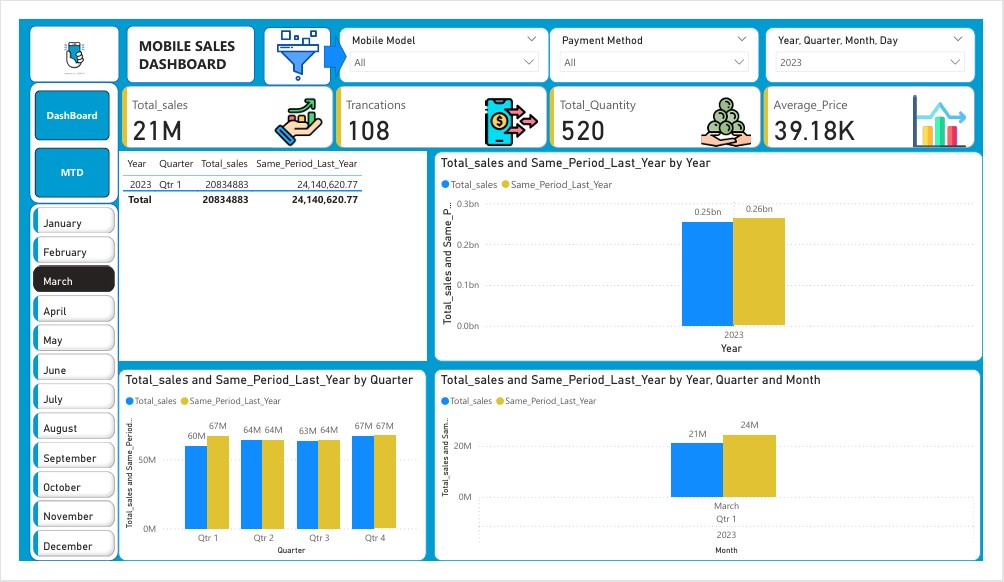

The dashboard page shown, as its layout file describes it:
{"tool":"powerbi","page":{"name":"Same Period Last Year","canvas":[1280,720],"ordinal":2},"visuals":[{"type":"shape","box":[14.2,8.5,119.1,75.1],"z":0},{"type":"image","box":[43.9,19.8,59.5,59.5],"z":1000},{"type":"shape","box":[14.2,83.6,117.6,161.6],"z":2000},{"type":"cardVisual","fields":{"Data":["Sales Data.Total_sales","Sales Data.Trancations","Sales Data.Total_Quantity","Sales Data.Average_Price"]},"box":[131.8,83.6,1145.2,92.1],"z":3000},{"type":"slicer","fields":{"Values":["Sales Data.Mobile Model"]},"box":[424.9,11.3,278.8,74.1],"z":4000},{"type":"slicer","fields":{"Values":["Sales Data.Payment Method"]},"box":[703.9,11.2,279,74],"z":5000},{"type":"slicer","fields":{"Values":["Custom_Calendar.Date.Variation.Date Hierarchy.Year","Custom_Calendar.Date.Variation.Date Hierarchy.Quarter","Custom_Calendar.Date.Variation.Date Hierarchy.Month","Custom_Calendar.Date.Variation.Date Hierarchy.Day"]},"box":[990.9,11.2,279,74],"z":6000},{"type":"shape","box":[324.6,11.3,89.3,76.5],"z":7000},{"type":"image","box":[279.2,8.5,181.4,79.4],"z":8000},{"type":"shape","box":[405.4,21.3,29.8,58.1],"z":9000},{"type":"shape","box":[143.1,8.5,170.1,76.5],"z":10000},{"type":"textbox","box":[154.5,17,147.4,59.5],"z":11000},{"type":"shape","box":[14.2,245.2,117.6,474.8],"z":12000},{"type":"advancedSlicerVisual","fields":{"Values":["Custom_Calendar.Date.Variation.Date Hierarchy.Month"]},"box":[14.2,245.2,117.6,474.8],"z":13000},{"type":"tableEx","fields":{"Values":["Custom_Calendar.Date.Variation.Date Hierarchy.Year","Custom_Calendar.Date.Variation.Date Hierarchy.Quarter","Sales Data.Total_sales","Sales Data.Same_Period_Last_Year"]},"box":[133.2,175.7,408.2,279.2],"z":14000},{"type":"clusteredColumnChart","fields":{"Category":["Custom_Calendar.Date.Variation.Date Hierarchy.Year","Custom_Calendar.Date.Variation.Date Hierarchy.Quarter"],"Y":["Sales Data.Total_sales","Sales Data.Same_Period_Last_Year"]},"box":[551.3,175.7,728.5,279.2],"z":14001},{"type":"clusteredColumnChart","fields":{"Category":["Custom_Calendar.Date.Variation.Date Hierarchy.Year","Custom_Calendar.Date.Variation.Date Hierarchy.Quarter","Custom_Calendar.Date.Variation.Date Hierarchy.Month"],"Y":["Sales Data.Total_sales","Sales Data.Same_Period_Last_Year"]},"box":[551.3,464.9,725.7,255.1],"z":14002},{"type":"clusteredColumnChart","fields":{"Category":["Custom_Calendar.Date.Variation.Date Hierarchy.Year","Custom_Calendar.Date.Variation.Date Hierarchy.Quarter"],"Y":["Sales Data.Total_sales","Sales Data.Same_Period_Last_Year"]},"box":[131.8,464.9,409.6,255.1],"z":14003},{"type":"pageNavigator","box":[21.3,95,99.2,141.7],"z":14004}]}

Visuals, with their boxes in screenshot pixels (x1, y1, x2, y2), scaled from the page's 1280x720 canvas onto the 1004x582 screenshot:
shape: Rect(11, 7, 105, 68)
image: Rect(34, 16, 81, 64)
shape: Rect(11, 68, 103, 198)
cardVisual - Sales Data.Total_sales x Sales Data.Trancations: Rect(103, 68, 1002, 142)
slicer - Sales Data.Mobile Model: Rect(333, 9, 552, 69)
slicer - Sales Data.Payment Method: Rect(552, 9, 771, 69)
slicer - Custom_Calendar.Date.Variation.Date Hierarchy.Year x Custom_Calendar.Date.Variation.Date Hierarchy.Quarter: Rect(777, 9, 996, 69)
shape: Rect(255, 9, 325, 71)
image: Rect(219, 7, 361, 71)
shape: Rect(318, 17, 341, 64)
shape: Rect(112, 7, 246, 69)
textbox: Rect(121, 14, 237, 62)
shape: Rect(11, 198, 103, 581)
advancedSlicerVisual - Custom_Calendar.Date.Variation.Date Hierarchy.Month: Rect(11, 198, 103, 581)
tableEx - Custom_Calendar.Date.Variation.Date Hierarchy.Year x Custom_Calendar.Date.Variation.Date Hierarchy.Quarter: Rect(104, 142, 425, 368)
clusteredColumnChart - Custom_Calendar.Date.Variation.Date Hierarchy.Year x Custom_Calendar.Date.Variation.Date Hierarchy.Quarter: Rect(432, 142, 1003, 368)
clusteredColumnChart - Custom_Calendar.Date.Variation.Date Hierarchy.Year x Custom_Calendar.Date.Variation.Date Hierarchy.Quarter: Rect(432, 376, 1002, 581)
clusteredColumnChart - Custom_Calendar.Date.Variation.Date Hierarchy.Year x Custom_Calendar.Date.Variation.Date Hierarchy.Quarter: Rect(103, 376, 425, 581)
pageNavigator: Rect(17, 77, 95, 191)
